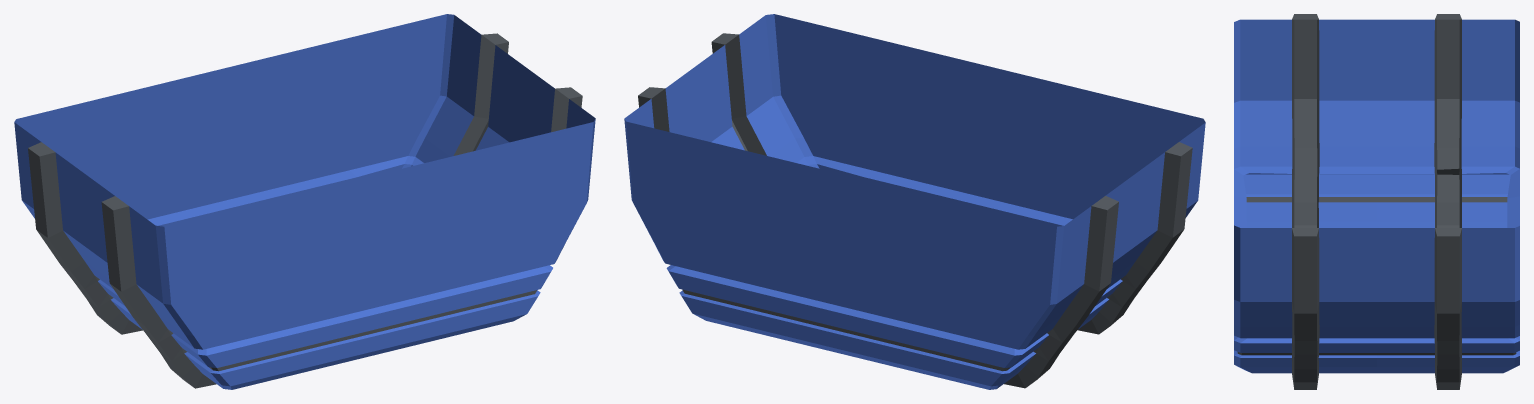
The model's file is Dropship_05_Secondary_Storage_Blue.fbx.
The picture shows the model from 3 angles, left to right: view 1: azimuth 30°, elevation 25°; view 2: azimuth 150°, elevation 25°; view 3: azimuth 270°, elevation 25°; orthographic projection. The views are drawn at different scales.
Parts seen in each view (by area): view 1: Dropship_05_Secondary_Storage_Blue; view 2: Dropship_05_Secondary_Storage_Blue; view 3: Dropship_05_Secondary_Storage_Blue.
Boxes of the visible parts, <box> form: Dropship_05_Secondary_Storage_Blue: <box>14,14,595,389</box>; Dropship_05_Secondary_Storage_Blue: <box>624,14,1205,389</box>; Dropship_05_Secondary_Storage_Blue: <box>1234,14,1519,389</box>.
Bounding box in the file's own units: 333 × 136 × 181.
Materials: 1 (1 with a texture image).
